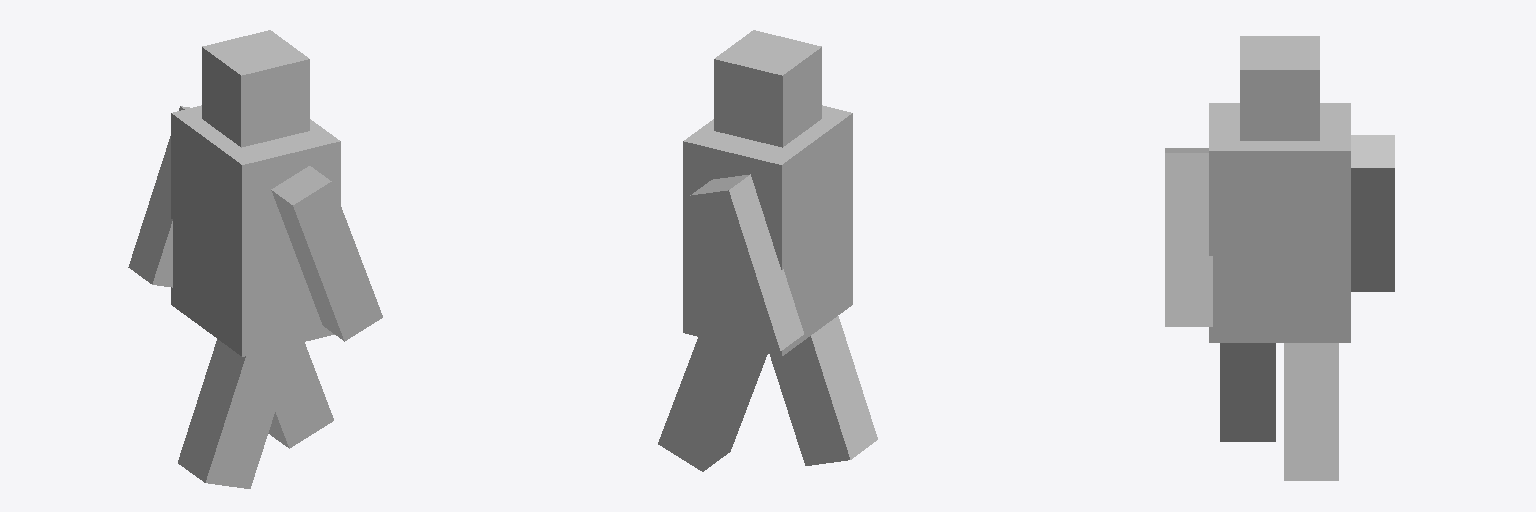
Rendered from enemy_walk.obj.
3 renders of one model, left to right at view 1: azimuth 30°, elevation 25°; view 2: azimuth 150°, elevation 25°; view 3: azimuth 270°, elevation 25°, orthographic.
Parts seen in each view (by area): view 1: body_Cube, leg.001_Cube.001, head_Cube.005, arm_left_Cube.002, leg_Cube.004, arm_right_Cube.003; view 2: body_Cube, arm_right_Cube.003, head_Cube.005, leg.001_Cube.001, leg_Cube.004; view 3: body_Cube, head_Cube.005, arm_left_Cube.002, leg_Cube.004, arm_right_Cube.003, leg.001_Cube.001.
Boxes of the visible parts, x1=… form: body_Cube: x1=171, y1=105, x2=340, y2=356; leg.001_Cube.001: x1=178, y1=339, x2=296, y2=488; head_Cube.005: x1=202, y1=30, x2=309, y2=147; arm_left_Cube.002: x1=271, y1=166, x2=382, y2=341; leg_Cube.004: x1=268, y1=342, x2=333, y2=448; arm_right_Cube.003: x1=128, y1=106, x2=189, y2=287; body_Cube: x1=683, y1=105, x2=852, y2=356; arm_right_Cube.003: x1=690, y1=174, x2=803, y2=356; head_Cube.005: x1=714, y1=30, x2=821, y2=147; leg.001_Cube.001: x1=770, y1=316, x2=877, y2=465; leg_Cube.004: x1=658, y1=337, x2=767, y2=471; body_Cube: x1=1209, y1=103, x2=1350, y2=342; head_Cube.005: x1=1240, y1=36, x2=1319, y2=140; arm_left_Cube.002: x1=1165, y1=148, x2=1212, y2=326; leg_Cube.004: x1=1284, y1=343, x2=1338, y2=480; arm_right_Cube.003: x1=1351, y1=135, x2=1394, y2=291; leg.001_Cube.001: x1=1220, y1=343, x2=1275, y2=441.
Size of the model in its own units: 2.35 by 5.65 by 2.9.